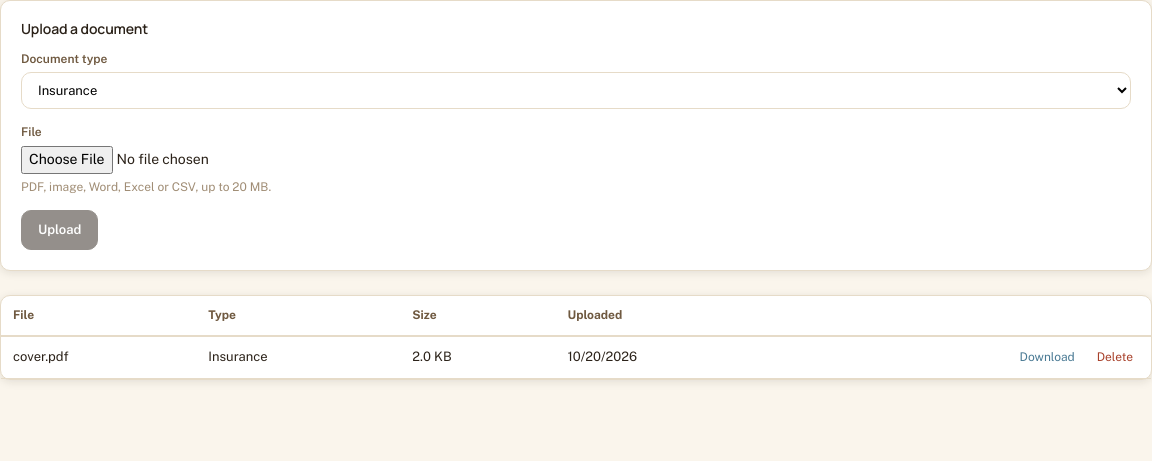
Test: PortalDocuments › deletes only after a second confirming click, then reloads
The image size is (1152, 461).
Step 1. Click the button with aria-label "Delete cover.pdf" → [1115, 357], box [1091,347,1139,368]
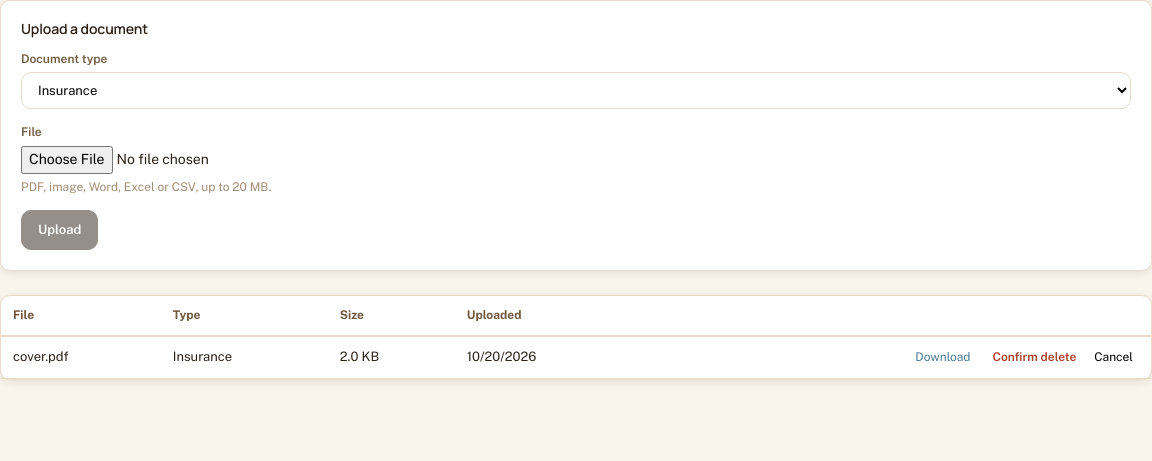
Step 2. Click the button "Confirm delete" → [1034, 357], box [986,347,1082,368]
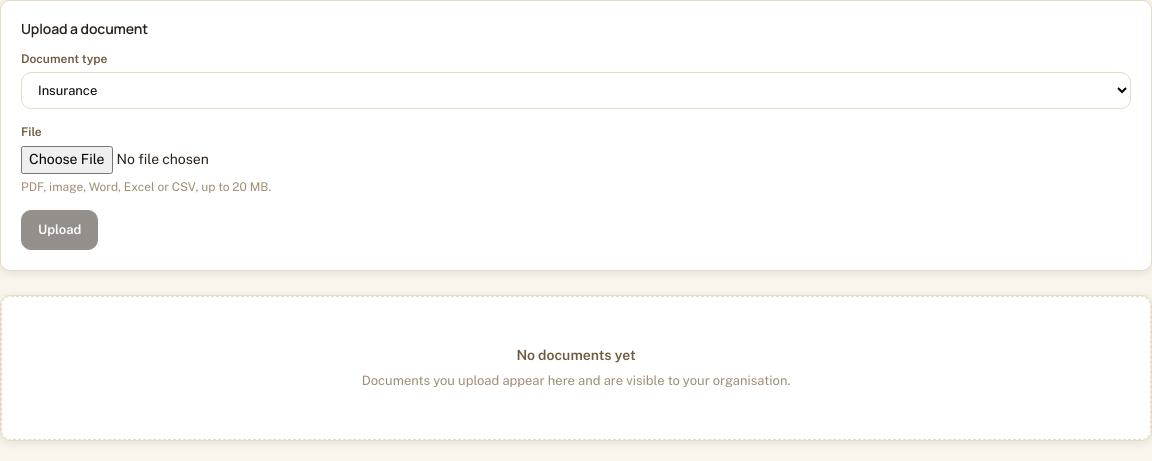
Result: the text "No documents yet" is shown at [516,347,636,363]
